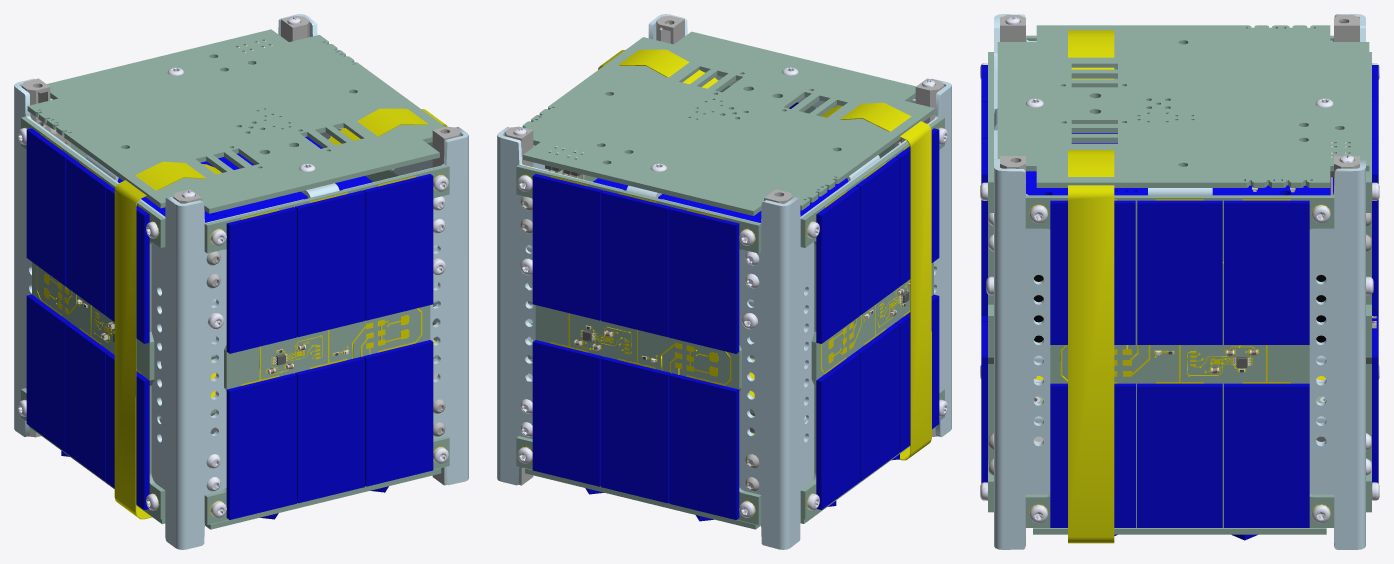
The model's file is kit.glb.
3 views of the same model, side by side, from view 1: azimuth 30°, elevation 25°; view 2: azimuth 150°, elevation 25°; view 3: azimuth 270°, elevation 25° (orthographic). The views are drawn at different scales.
Visible parts, largest first — view 1: solar-panel-NoCutout (1) <4>, antenna_top_cap_v2 (1) <1>, solar-panel-NoCutout (1) <2>, Chassis <2>, antenna <2>, Chassis <1>, FC Board Placeholder <1>, solar-panel-side-Z Orpheus <1>, antenna <1>, No screw feet <4>, No screw feet <3>, V4_STRUCTURE_FEET_COMMON (2) <1> (+1 smaller); view 2: solar-panel-NoCutout (1) <3>, antenna_top_cap_v2 (1) <1>, solar-panel-NoCutout (1) <2>, Chassis <1>, antenna <2>, Chassis <2>, solar-panel-side-Z Orpheus <1>, FC Board Placeholder <1>, antenna <1>, V4_STRUCTURE_FEET_COMMON (2) <1>, No screw feet <3>, V4_STRUCTURE_FEET_COMMON (2) <2>; view 3: solar-panel-NoCutout (1) <1>, antenna_top_cap_v2 (1) <1>, Chassis <2>, Chassis <1>, antenna <1>, solar-panel-NoCutout (1) <4>, solar-panel-NoCutout (1) <3>, FC Board Placeholder <1>, solar-panel-side-Z Orpheus <1>, antenna <2>, No screw feet <4>, Assembly 1 <1> (+2 smaller).
Part boxes in pixels (x1,y1,x2,y2): solar-panel-NoCutout (1) <4>: (204, 164, 449, 524); antenna_top_cap_v2 (1) <1>: (27, 29, 444, 213); solar-panel-NoCutout (1) <2>: (18, 116, 165, 519); Chassis <2>: (98, 127, 468, 549); antenna <2>: (114, 161, 221, 519); Chassis <1>: (14, 14, 341, 436); FC Board Placeholder <1>: (117, 136, 445, 329); solar-panel-side-Z Orpheus <1>: (29, 426, 441, 529); antenna <1>: (328, 108, 447, 144); No screw feet <4>: (21, 78, 70, 147); No screw feet <3>: (432, 126, 461, 167); V4_STRUCTURE_FEET_COMMON (2) <1>: (281, 15, 309, 41); solar-panel-NoCutout (1) <3>: (516, 164, 761, 524); antenna_top_cap_v2 (1) <1>: (522, 31, 935, 215); solar-panel-NoCutout (1) <2>: (800, 116, 947, 519); Chassis <1>: (497, 127, 867, 549); antenna <2>: (821, 102, 931, 460); Chassis <2>: (648, 14, 951, 437); solar-panel-side-Z Orpheus <1>: (525, 426, 937, 529); FC Board Placeholder <1>: (520, 178, 848, 329); antenna <1>: (598, 49, 718, 88); V4_STRUCTURE_FEET_COMMON (2) <1>: (504, 126, 533, 233); No screw feet <3>: (656, 15, 684, 44); V4_STRUCTURE_FEET_COMMON (2) <2>: (895, 78, 944, 147); solar-panel-NoCutout (1) <1>: (1025, 195, 1334, 527); antenna_top_cap_v2 (1) <1>: (997, 25, 1369, 194); Chassis <2>: (994, 14, 1117, 549); Chassis <1>: (1309, 14, 1365, 549); antenna <1>: (1068, 150, 1114, 543); solar-panel-NoCutout (1) <4>: (980, 52, 993, 512); solar-panel-NoCutout (1) <3>: (1366, 52, 1379, 512); FC Board Placeholder <1>: (986, 133, 1373, 295); solar-panel-side-Z Orpheus <1>: (1033, 528, 1326, 540); antenna <2>: (1068, 30, 1114, 79); No screw feet <4>: (1334, 15, 1359, 41); Assembly 1 <1>: (1033, 275, 1326, 382).
Size of the model in its own units: 0.1075 by 0.1157 by 0.1075.
